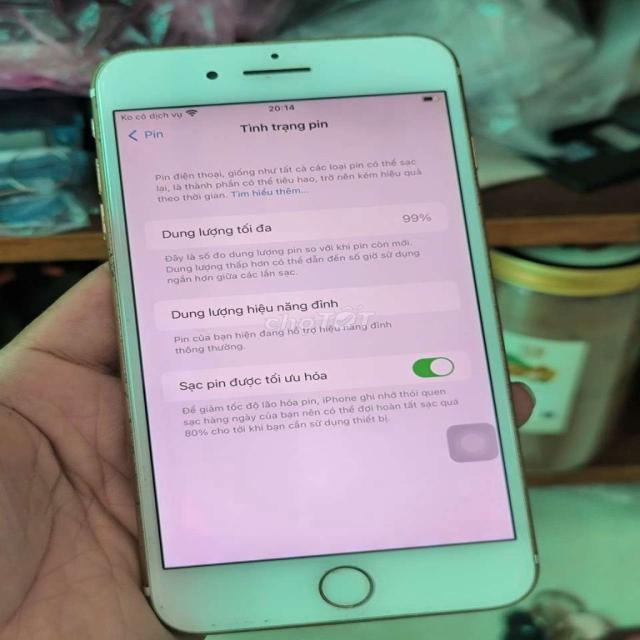scratch: (150, 594, 406, 630), (116, 31, 284, 55), (119, 355, 143, 475), (99, 240, 122, 290), (490, 542, 520, 568), (318, 560, 354, 577), (250, 73, 284, 83)
